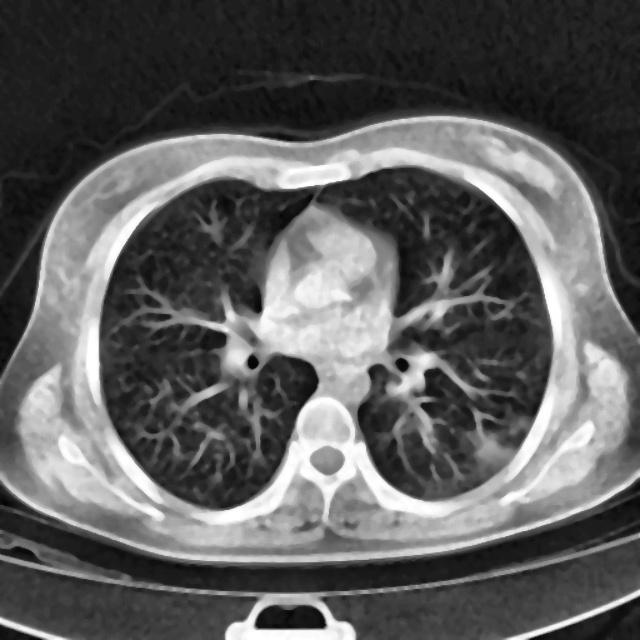covid: (1, 111, 638, 568)
